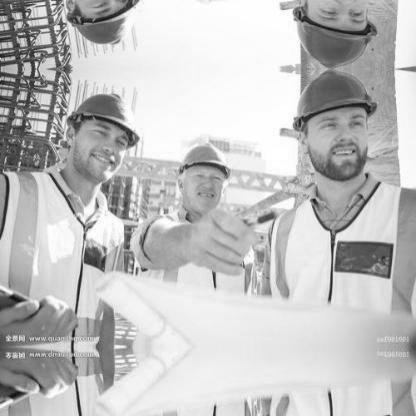helmet: (283, 69, 389, 184), (53, 85, 149, 185), (283, 0, 390, 70), (169, 131, 237, 215), (53, 0, 150, 54)
